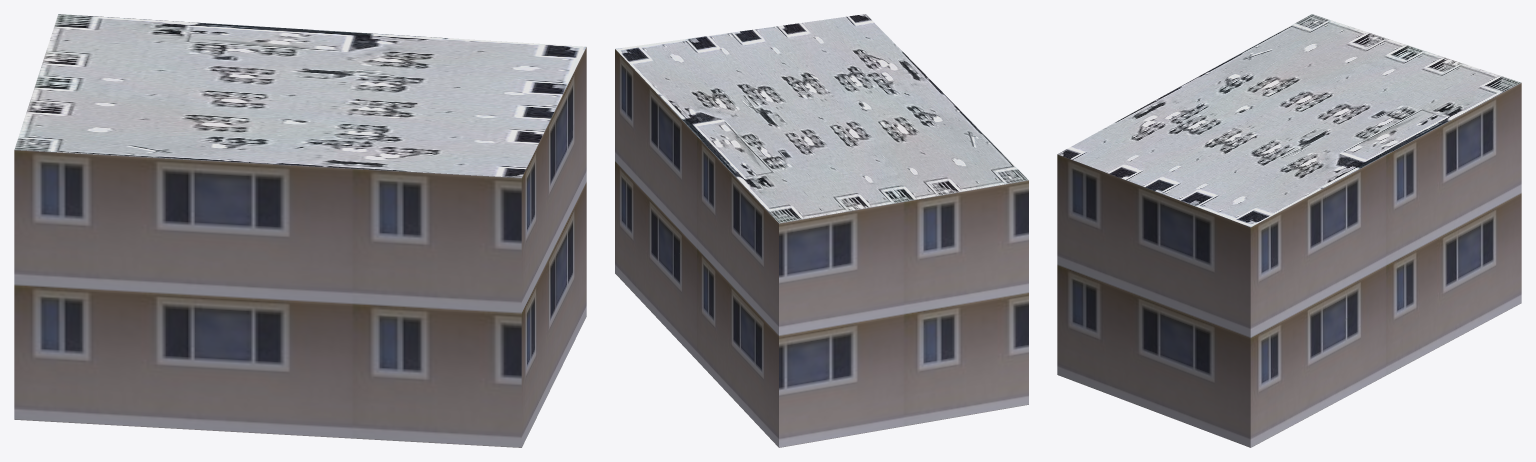
The model's file is ResTex__304.fbx.
3 views of the same model, side by side, from view 1: azimuth 30°, elevation 25°; view 2: azimuth 150°, elevation 25°; view 3: azimuth 270°, elevation 25° (orthographic). The views are drawn at different scales.
Visible parts, largest first — view 1: CityEngineMaterial_21_m, CityEngineMaterial_4_m; view 2: CityEngineMaterial_21_m, CityEngineMaterial_4_m; view 3: CityEngineMaterial_21_m, CityEngineMaterial_4_m.
Part boxes in pixels (x1=…): CityEngineMaterial_21_m: x1=14, y1=47, x2=586, y2=447; CityEngineMaterial_4_m: x1=14, y1=14, x2=586, y2=177; CityEngineMaterial_21_m: x1=615, y1=49, x2=1028, y2=447; CityEngineMaterial_4_m: x1=615, y1=14, x2=1028, y2=223; CityEngineMaterial_21_m: x1=1057, y1=82, x2=1521, y2=447; CityEngineMaterial_4_m: x1=1058, y1=14, x2=1520, y2=227.
Size of the model in its own units: 12.43 by 6 by 11.43.
2 materials, 2 textured.
